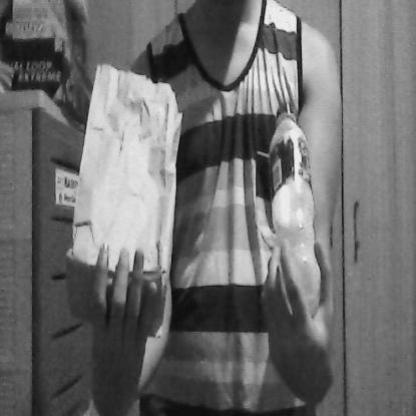Plastic Bottle: (262, 86, 327, 331)
